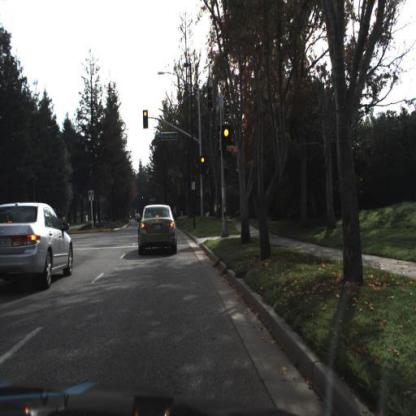car: (1, 194, 76, 294), (138, 201, 178, 257)
trafficLight-Red: (224, 123, 232, 151), (142, 109, 151, 131), (200, 155, 207, 175)
